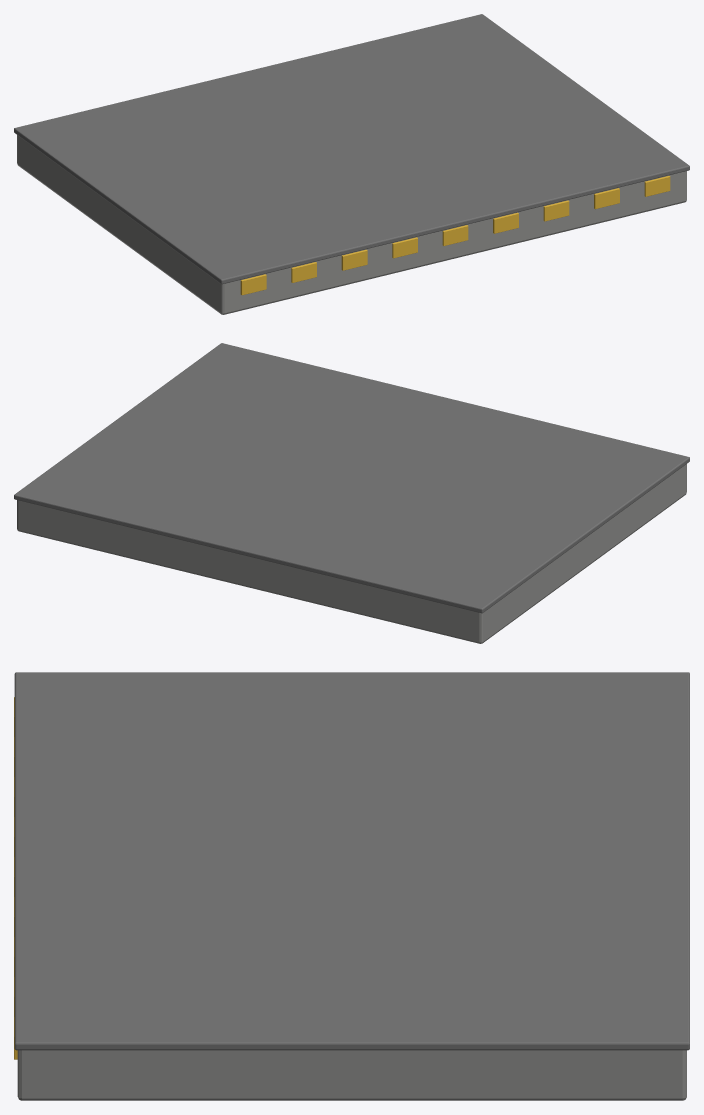
The model's file is platform.glb.
3 views of the same model, one above another, from view 1: azimuth 30°, elevation 25°; view 2: azimuth 150°, elevation 25°; view 3: azimuth 270°, elevation 25° (orthographic). The views are drawn at different scales.
Parts seen in each view (by area): view 1: platform; view 2: platform; view 3: platform.
Part boxes in pixels (<box>): platform: <box>14,14,689,314</box>; platform: <box>14,343,689,643</box>; platform: <box>14,672,689,1100</box>.
Bounding box in the file's own units: 6.04 × 0.46 × 4.64.
